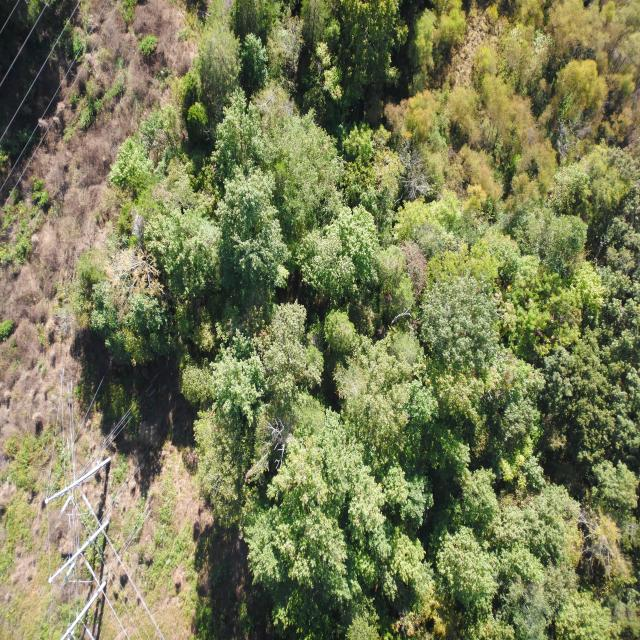Area of Interest: (71, 2, 633, 630)
